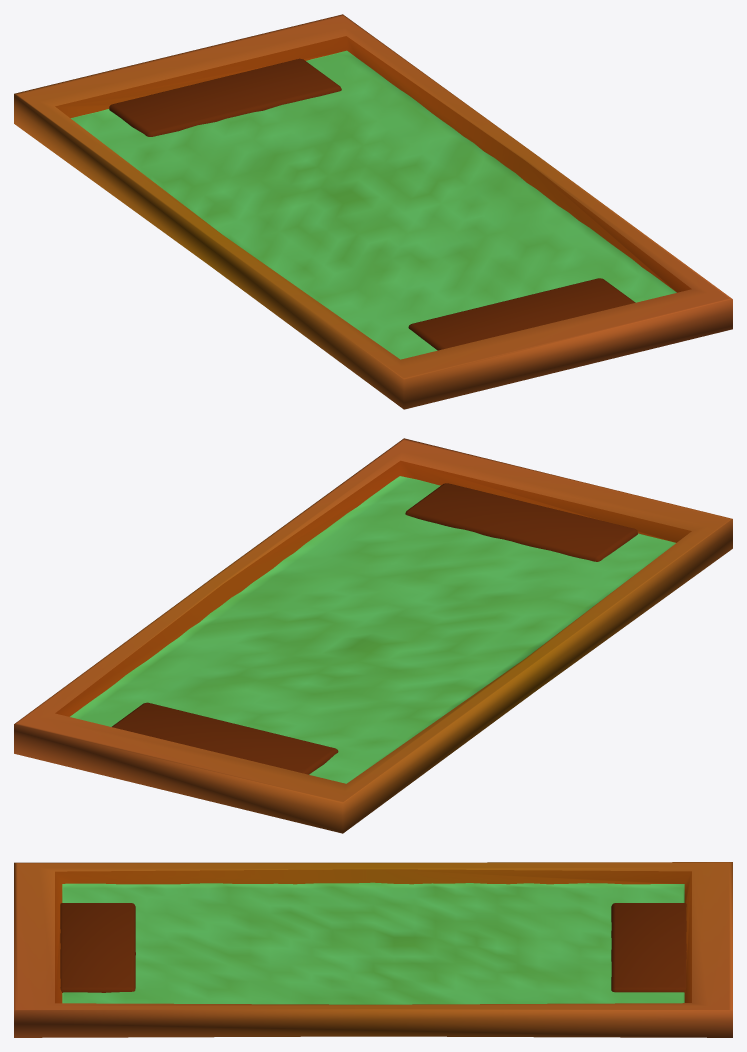
Rendered from стол.fbx.
3 renders of one model, top to bottom at view 1: azimuth 30°, elevation 25°; view 2: azimuth 150°, elevation 25°; view 3: azimuth 270°, elevation 25°, orthographic. The views are drawn at different scales.
Parts seen in each view (by area): view 1: Cube.001; view 2: Cube.001; view 3: Cube.001.
Part boxes in pixels (x1,y1,x2,y2): Cube.001: (14,14,732,409); Cube.001: (14,438,732,833); Cube.001: (14,862,732,1037).
Bounding box in the file's own units: 1560 × 139 × 3203.
